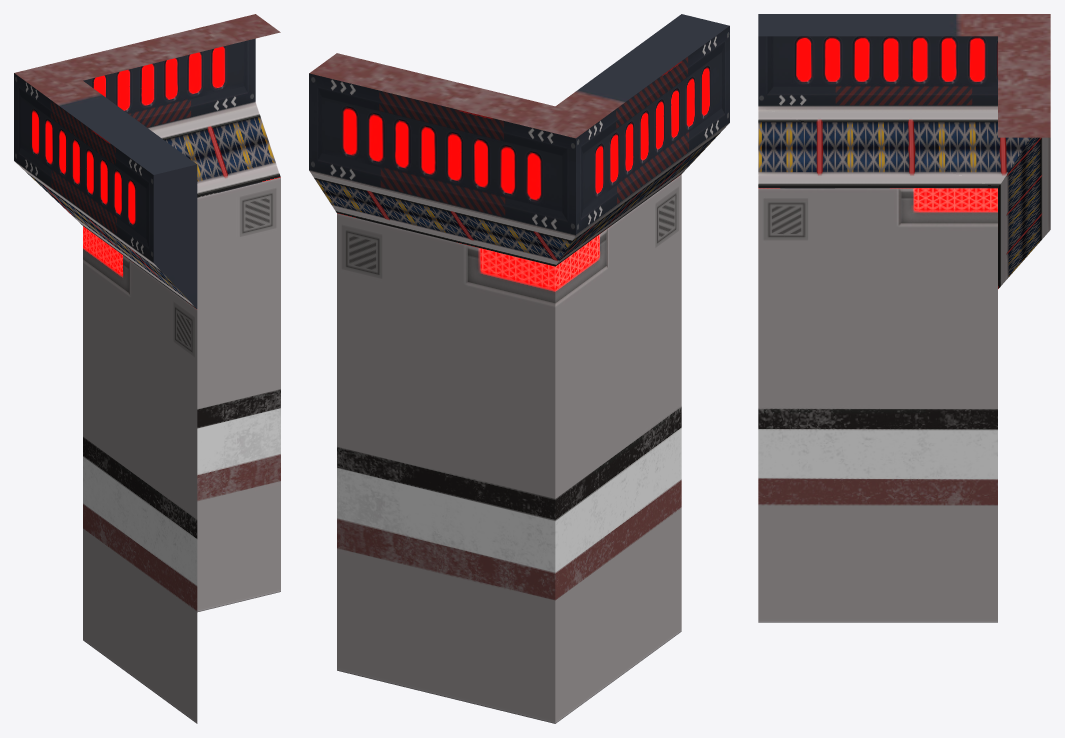
Rendered from FUT0510024.fbx.
The picture shows the model from 3 angles, left to right: view 1: azimuth 30°, elevation 25°; view 2: azimuth 150°, elevation 25°; view 3: azimuth 270°, elevation 25°; orthographic projection. The views are drawn at different scales.
Parts seen in each view (by area): view 1: smFUT0510024; view 2: smFUT0510024; view 3: smFUT0510024.
Boxes of the visible parts, x1,y1,x2,y2 form: smFUT0510024: [14, 14, 280, 723]; smFUT0510024: [309, 14, 729, 723]; smFUT0510024: [758, 14, 1050, 622].
Size of the model in its own units: 215 by 476 by 215.
1 material, 1 textured.
